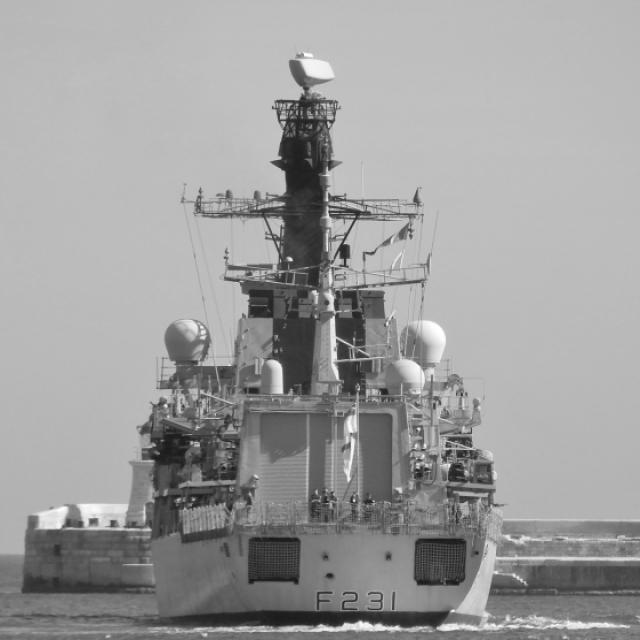Fragata: (144, 47, 497, 625)
